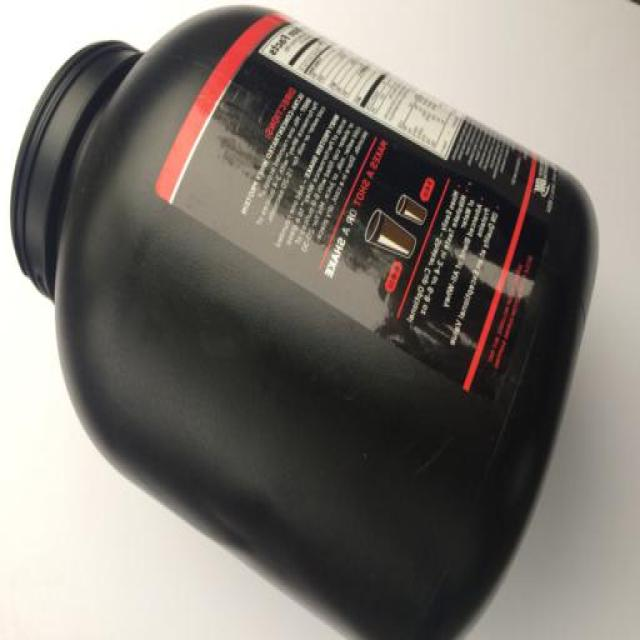Plastic: (10, 5, 601, 640)
